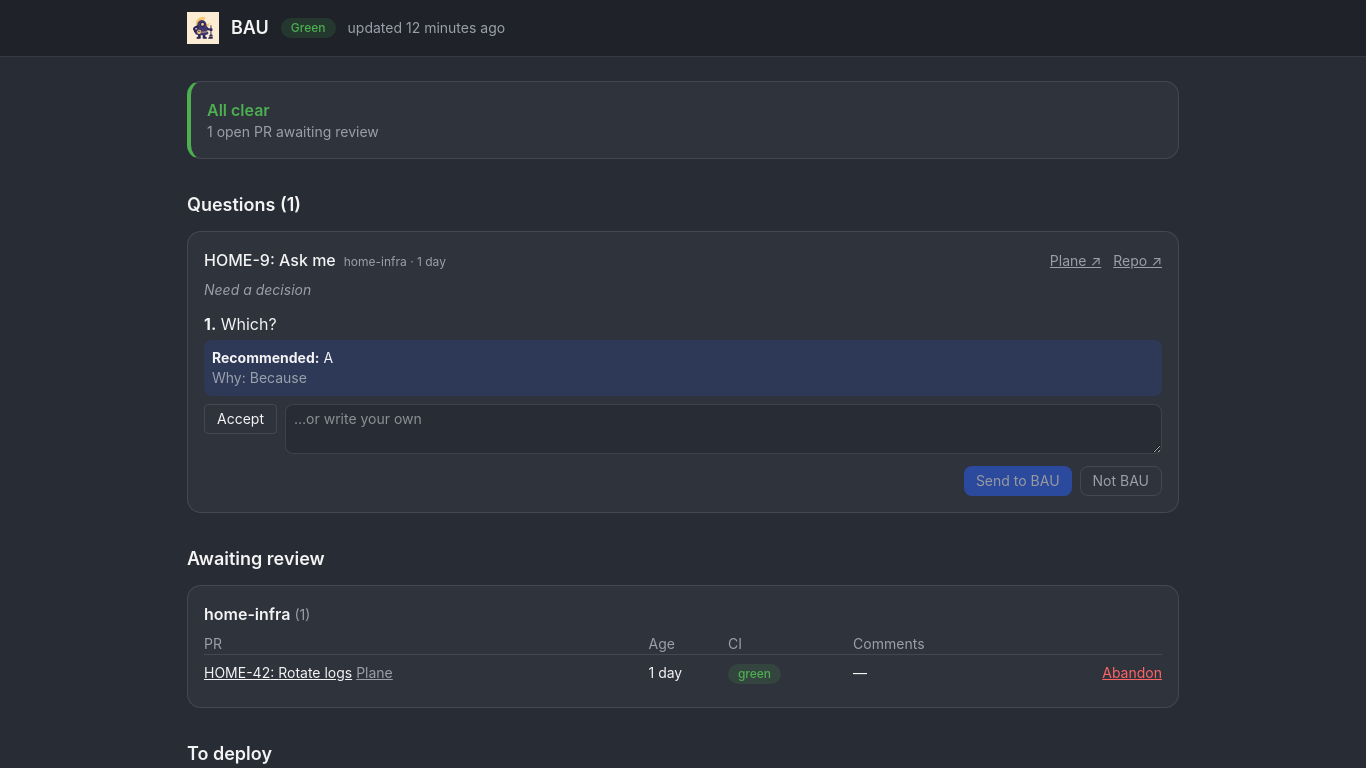
Test: App › sends answers, shows a notice and refetches
Click the button "Accept".
click(240, 419)  # box [204,404,277,434]
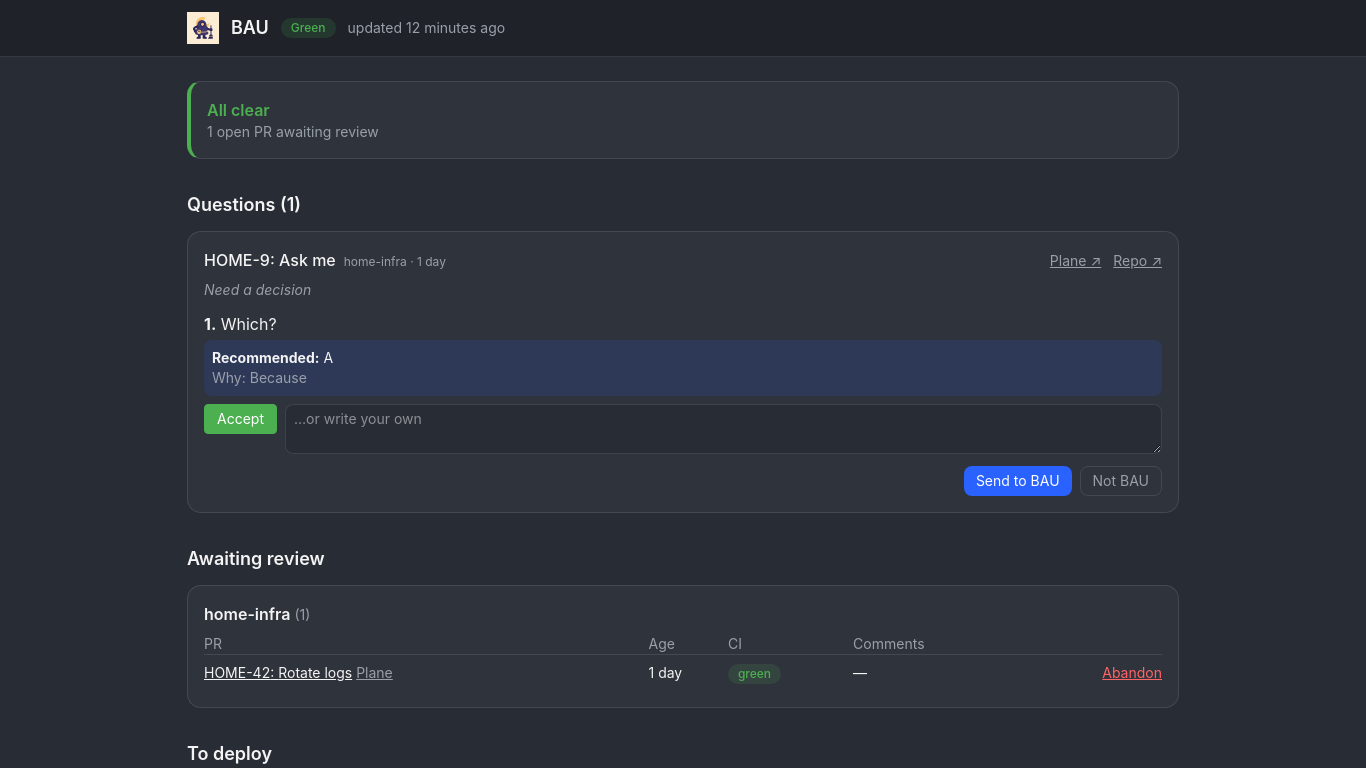
Click the button "Send to BAU".
click(1018, 481)  # box [964,466,1072,496]
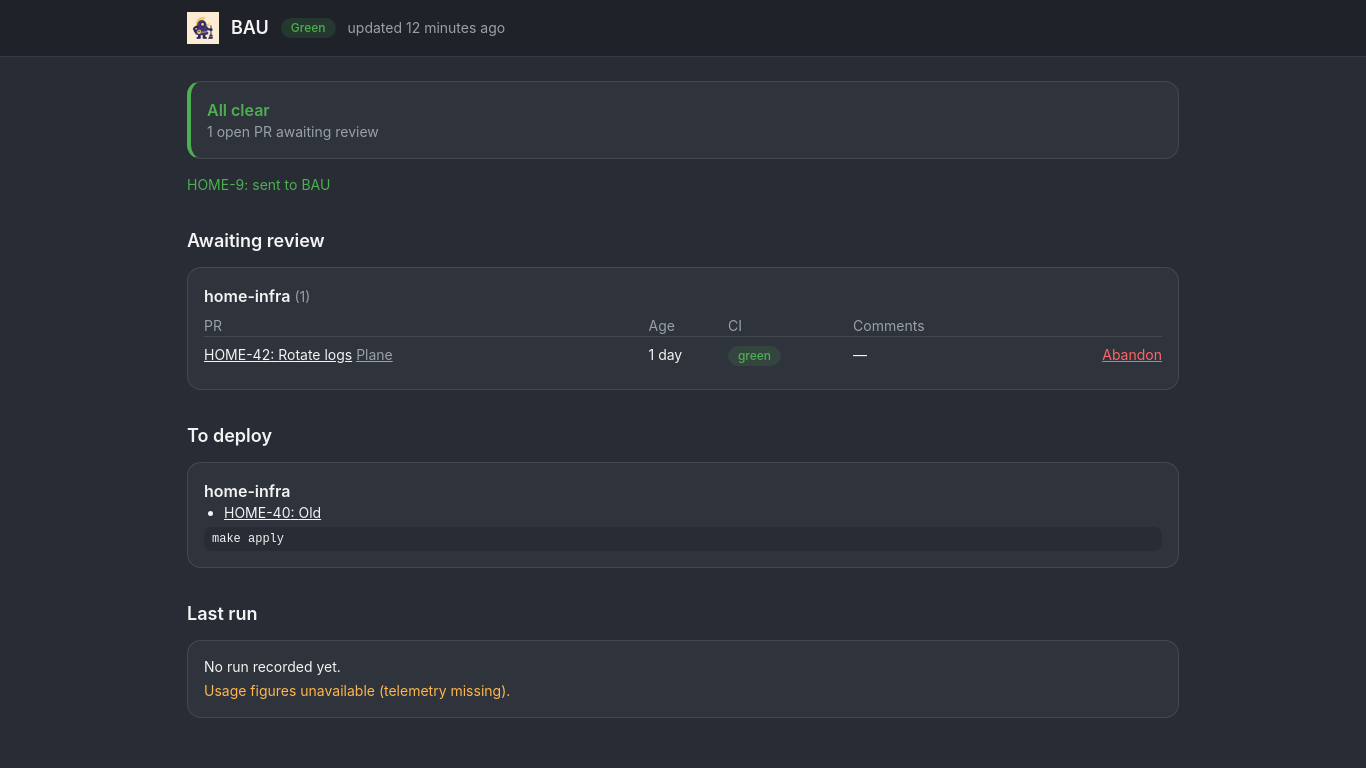
Now the list item "HOME-9: sent to BAU" is shown, box [187,176,330,193]
